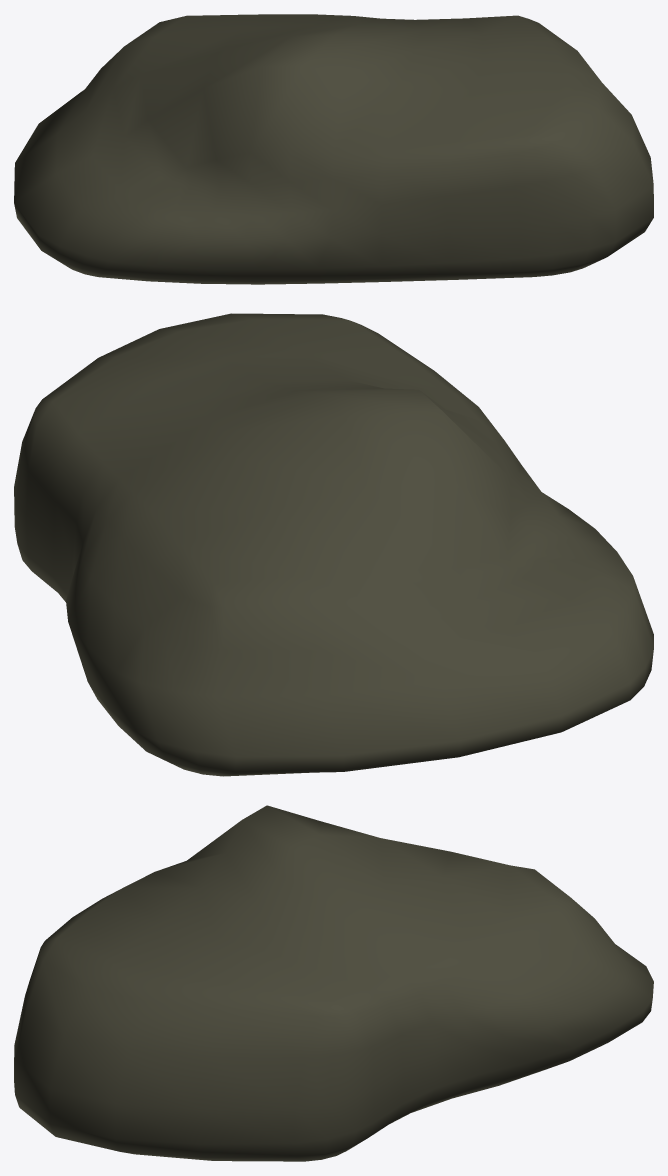
The model's file is rock2.fbx.
3 renders of one model, top to bottom at view 1: azimuth 30°, elevation 25°; view 2: azimuth 150°, elevation 25°; view 3: azimuth 270°, elevation 25°, orthographic. The views are drawn at different scales.
Parts seen in each view (by area): view 1: node_id36; view 2: node_id36; view 3: node_id36.
Part boxes in pixels (<box>): node_id36: <box>14,14,653,284</box>; node_id36: <box>14,313,653,776</box>; node_id36: <box>14,805,653,1161</box>.
Size of the model in its own units: 0.4832 by 0.1633 by 0.4759.
Materials: 1 (1 with a texture image).
